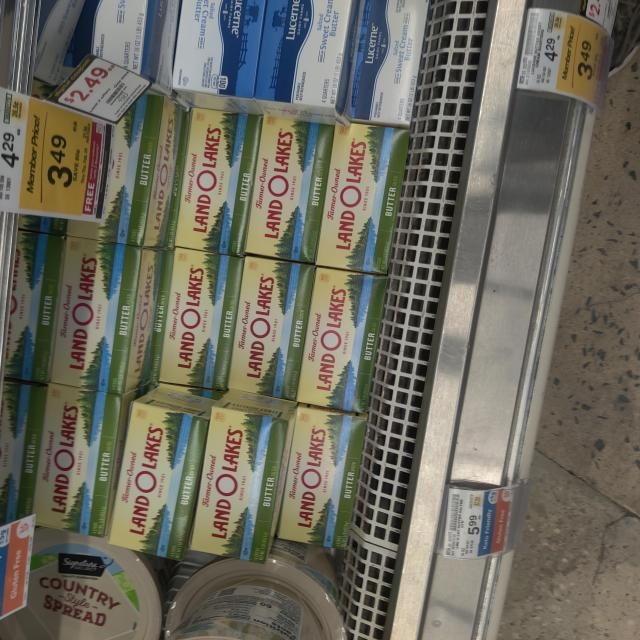Butter: (34, 233, 164, 388), (190, 390, 298, 569), (112, 388, 218, 564), (68, 93, 180, 244), (19, 380, 124, 536), (245, 114, 334, 266), (320, 124, 412, 271), (151, 246, 243, 392), (276, 408, 364, 555), (299, 267, 390, 409), (230, 255, 315, 401), (169, 100, 246, 258), (264, 0, 358, 118), (173, 0, 263, 109)
